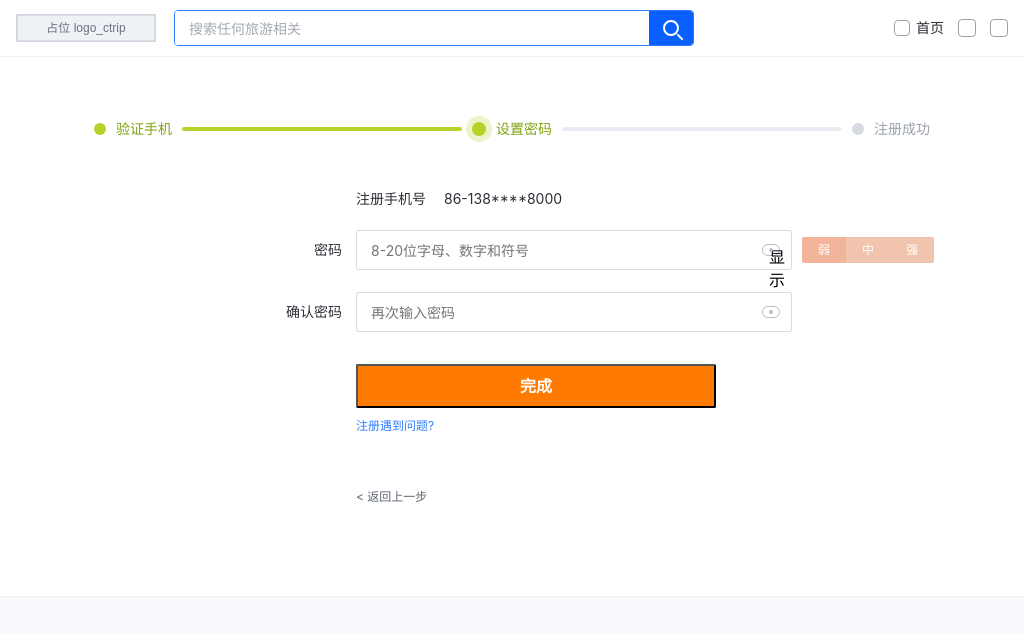
Test: 注册模块 - 步骤2 场景用例 › Scenario: 2.1.14 用户在未输入确认密码时点击注册
Type "CorrectPassword123!" into the password field with placeholder "8-20位字母、数字和符号".
click(574, 250); type("CorrectPassword123!")  # box 356,230 -> 792,270
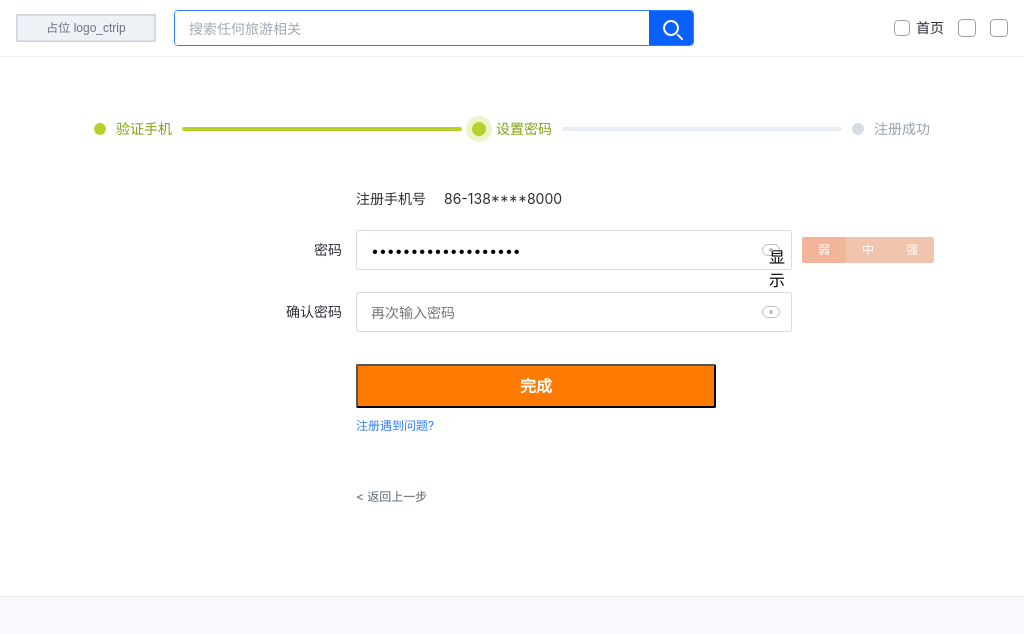
Click the button "完成".
click(536, 386)  # box 356,364 -> 716,408
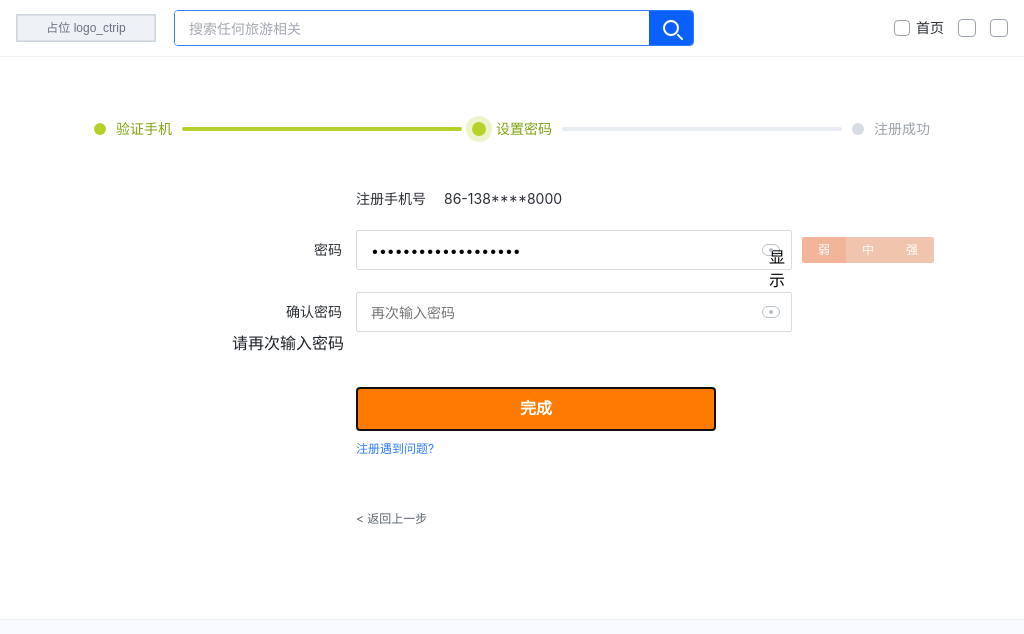
Expected: the text "请再次输入密码" is shown, 232,333 -> 344,353
